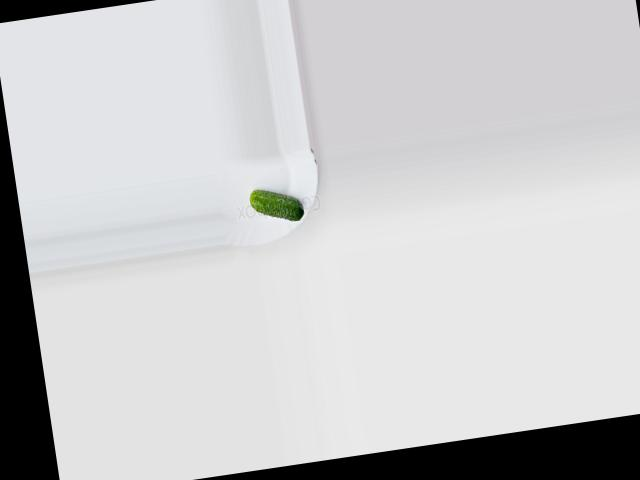cucumber: (248, 183, 304, 226)
